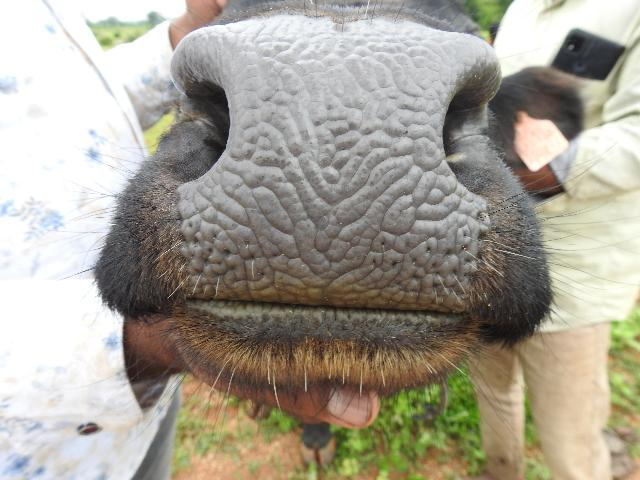Muzzle: (197, 26, 468, 308)
